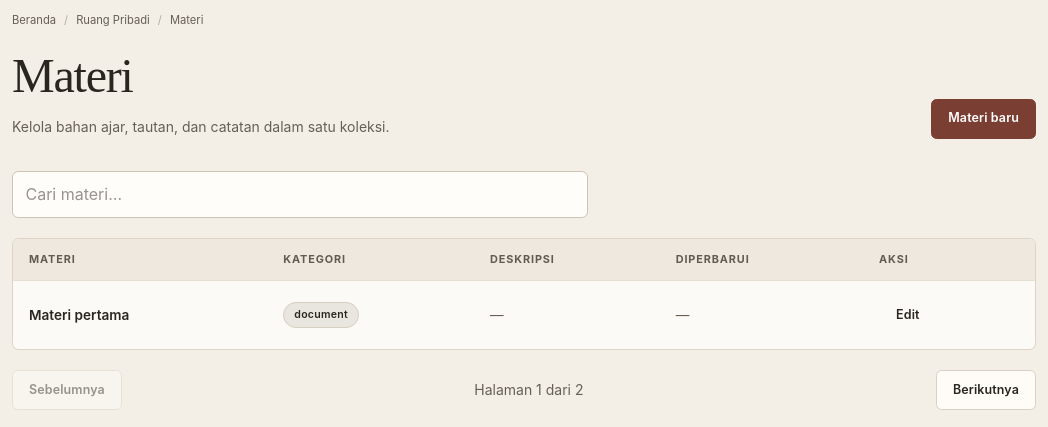
Test: ResourceList › loads and navigates every API page
The width and height of the screenshot is (1048, 427).
Check: the heading "Materi" is shown, box [12,49,133,102]
Check: the field labelled "Cari materi" is shown, box [12,170,588,218]
Step 1. Click the button "Berikutnya" → (986, 390), box [936,370,1036,410]
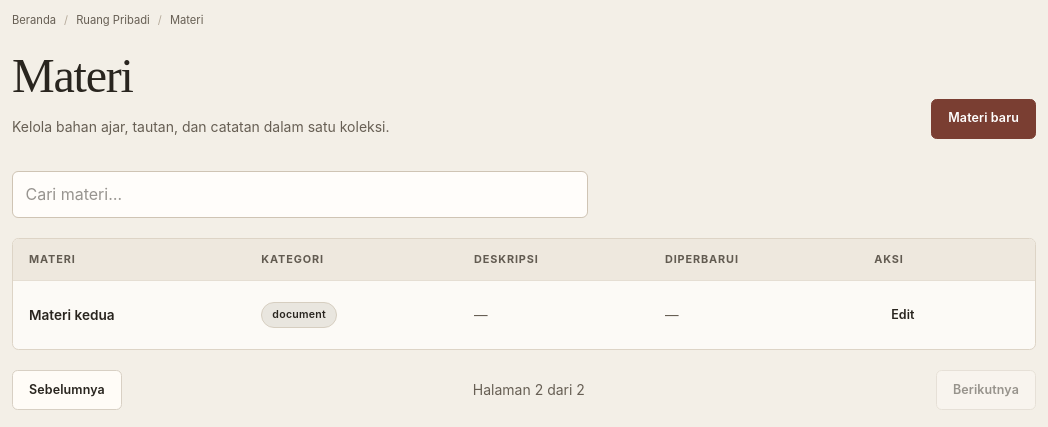
Check: the link "Materi kedua" is shown, box [29,307,115,323]
